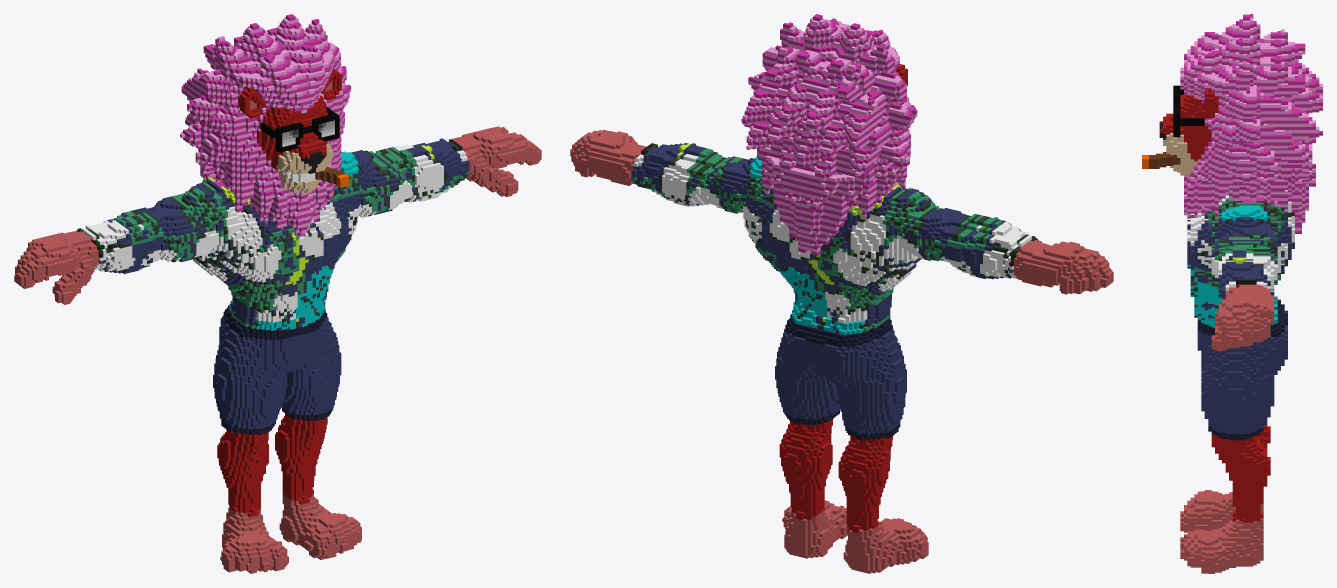
File: 304-CKxiG9vP.fbx
The picture shows the model from 3 angles, left to right: view 1: azimuth 30°, elevation 25°; view 2: azimuth 150°, elevation 25°; view 3: azimuth 270°, elevation 25°; orthographic projection. The views are drawn at different scales.
Visible parts, largest first — view 1: cigar; view 2: cigar; view 3: cigar.
Part boxes in pixels (x1,y1,x2,y2): cigar: (14,14,541,573); cigar: (570,14,1113,573); cigar: (1142,14,1322,573).
Size of the model in its own units: 17.2 by 16.5 by 5.2.
5 materials, 5 textured.
